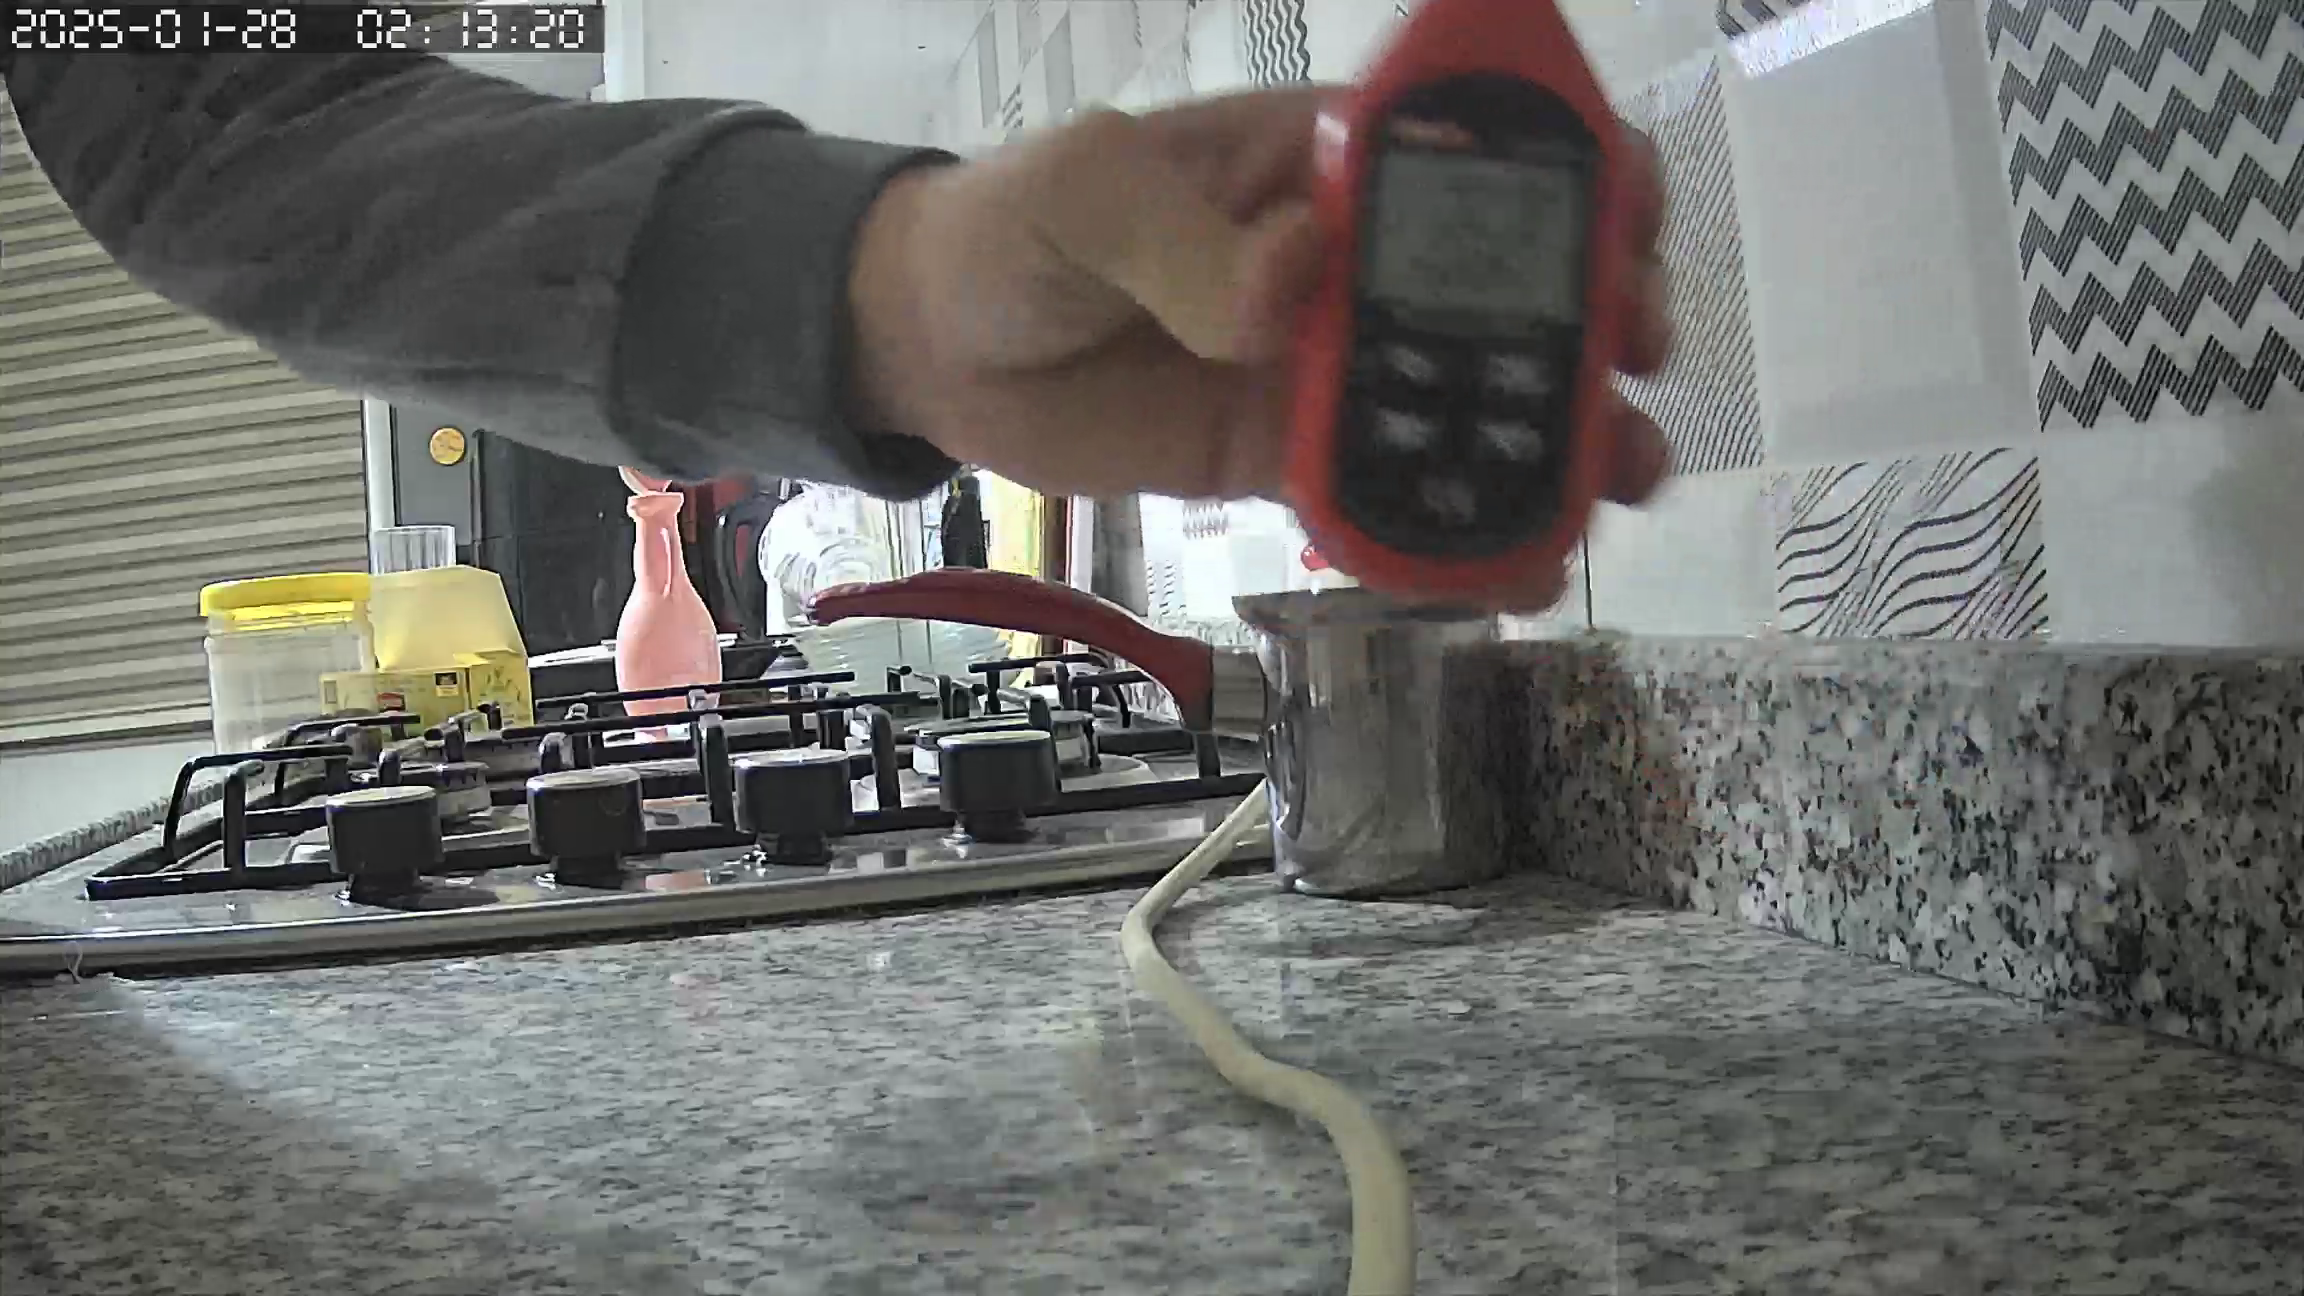screen: (1366, 149, 1587, 321)
